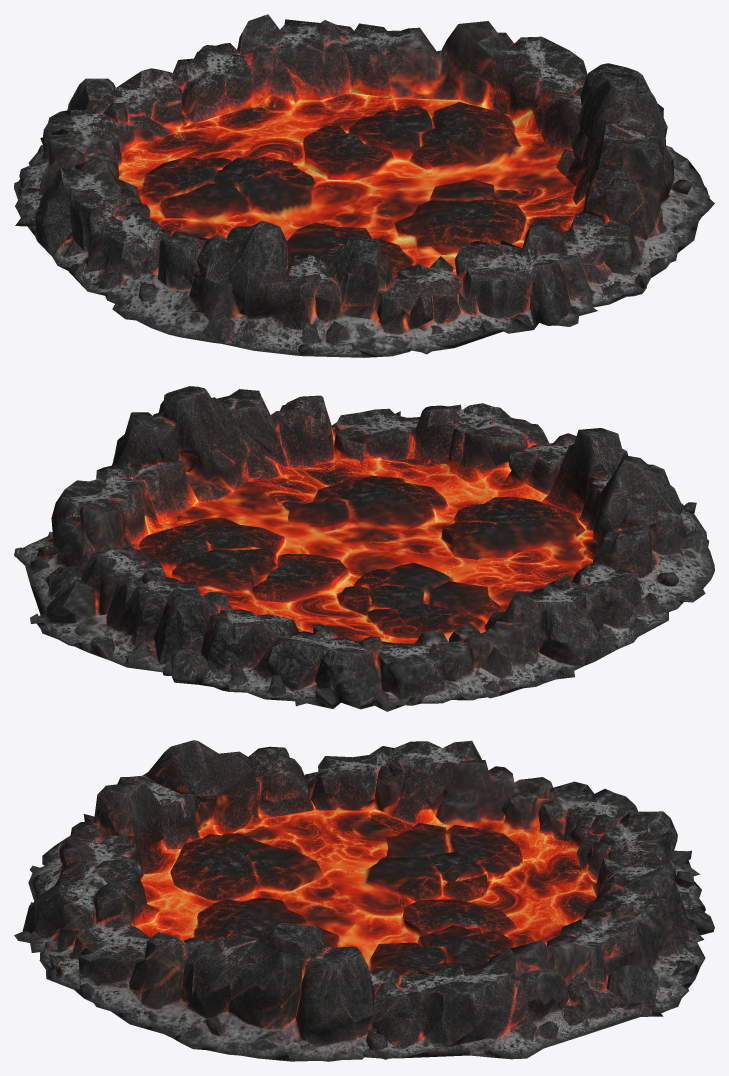
File: lava_pit.glb
The picture shows the model from 3 angles, top to bottom: view 1: azimuth 30°, elevation 25°; view 2: azimuth 150°, elevation 25°; view 3: azimuth 270°, elevation 25°; orthographic projection. The views are drawn at different scales.
Parts seen in each view (by area): view 1: lava_pit; view 2: lava_pit; view 3: lava_pit.
Boxes of the visible parts, x1,y1,x2,y2 form: lava_pit: (14, 14, 714, 357); lava_pit: (14, 386, 714, 711); lava_pit: (14, 740, 714, 1061).
Size of the model in its own units: 181 by 29.81 by 189.
Materials: 1 (1 with a texture image).
